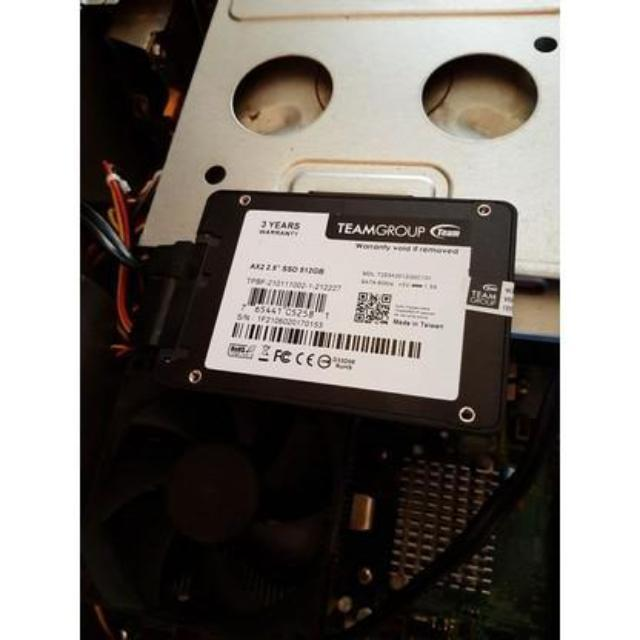DISK: (158, 182, 528, 450)
